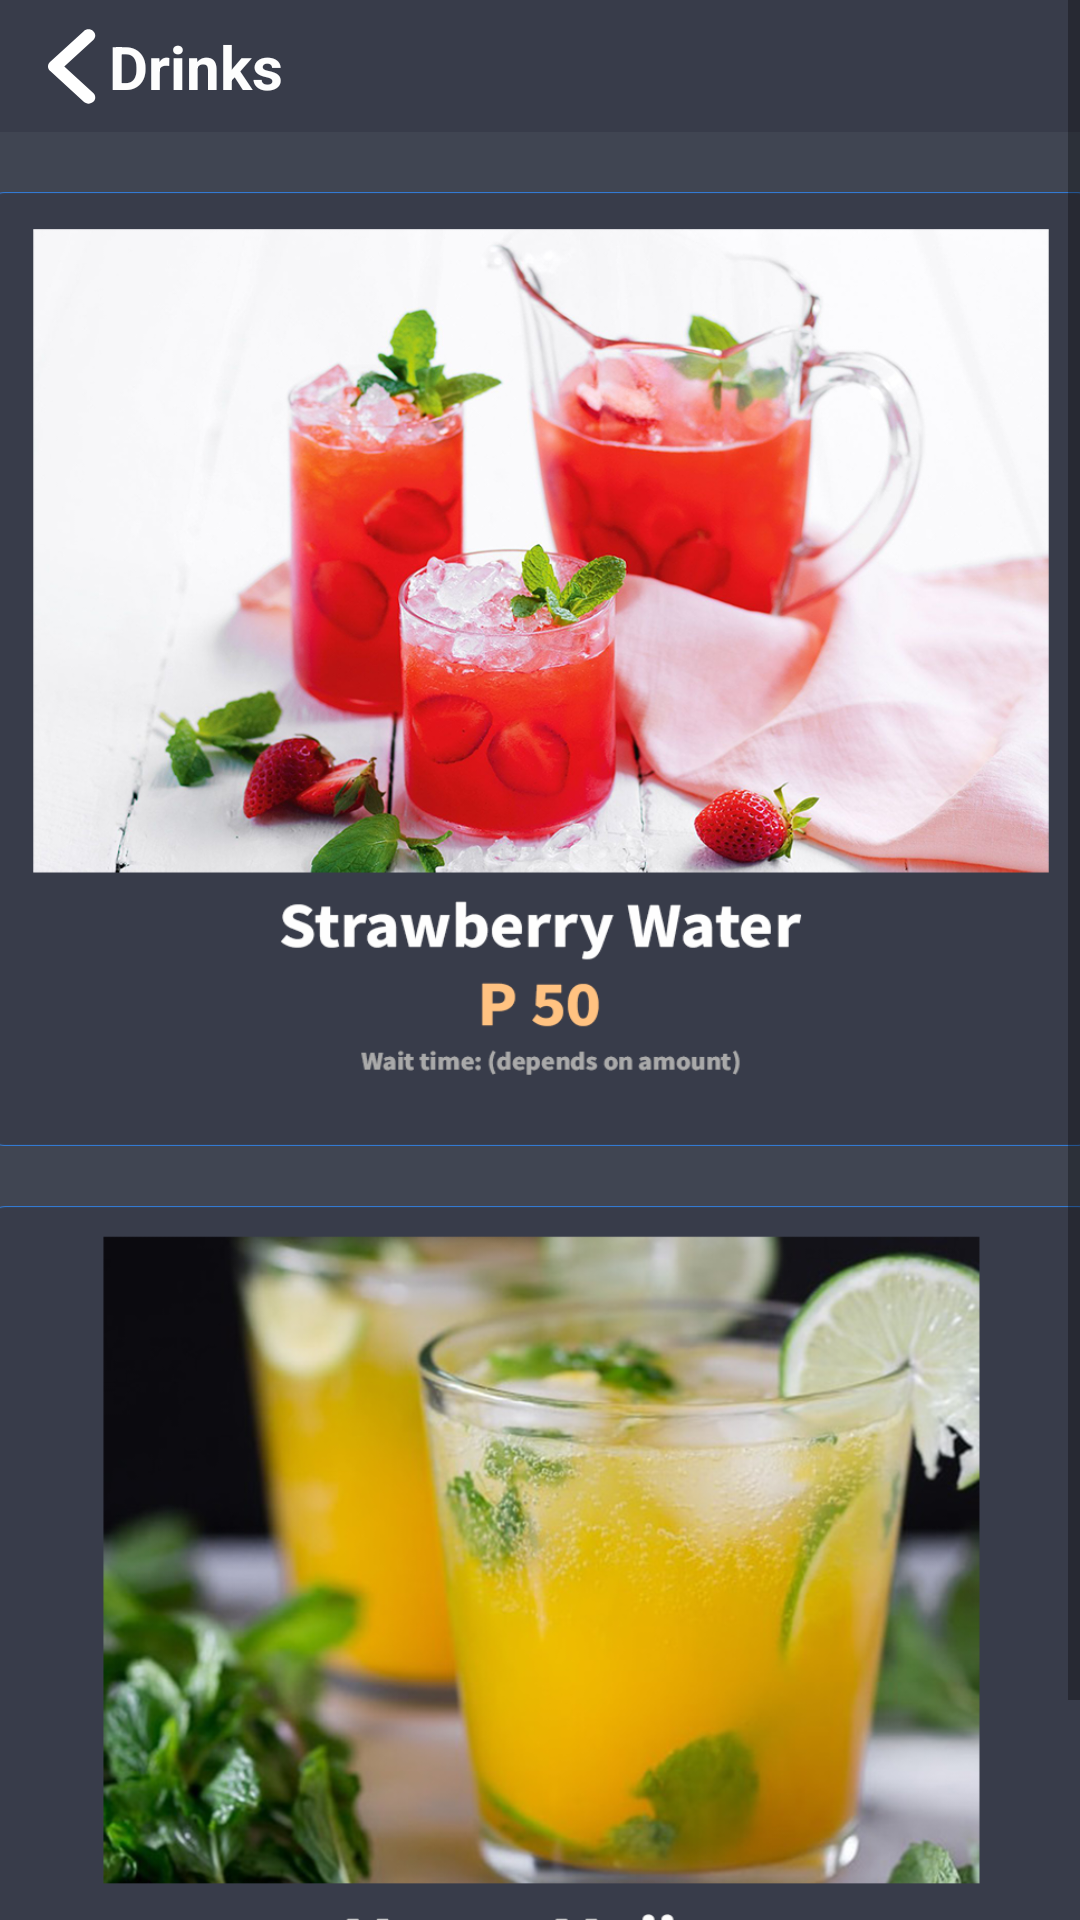

Screen size 1080x1920. Icon name, then its box in pixels as [x1, y1, x2, y2]:
angle left: [48, 29, 96, 104]
